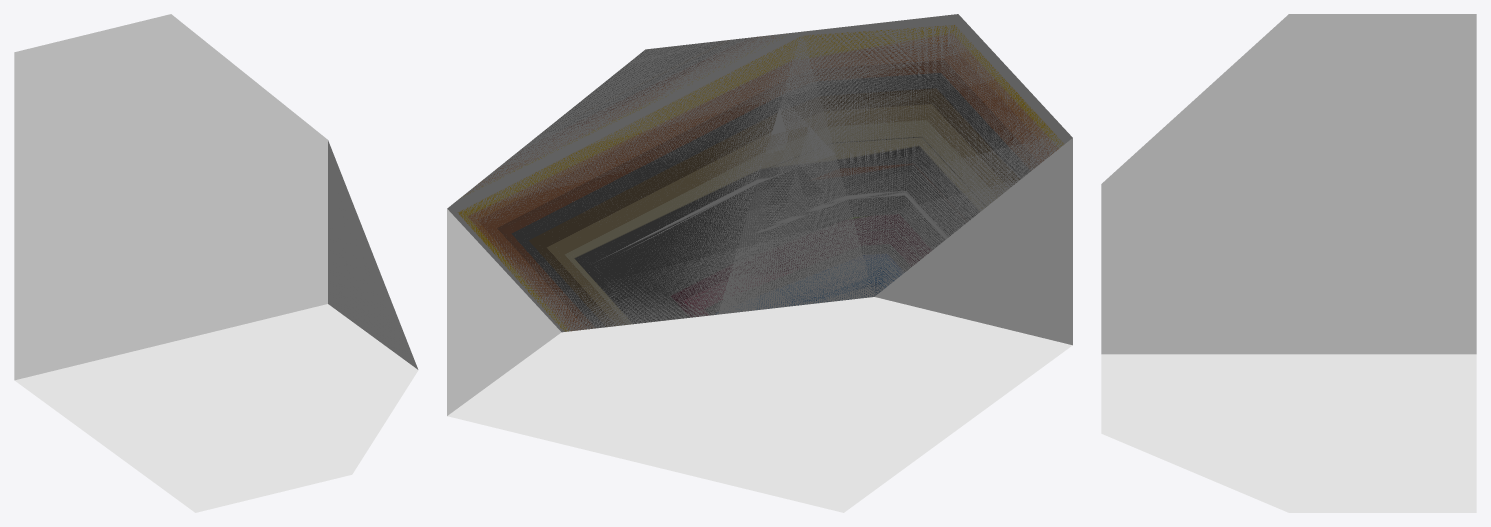
The model's file is r5c7_border_white.gltf.
3 views of the same model, side by side, from view 1: azimuth 30°, elevation 25°; view 2: azimuth 150°, elevation 25°; view 3: azimuth 270°, elevation 25° (orthographic). The views are drawn at different scales.
Parts seen in each view (by area): view 1: r5c7_border_white; view 2: r5c7_border_white; view 3: r5c7_border_white.
Boxes of the visible parts, x1=… form: r5c7_border_white: x1=14, y1=14, x2=418, y2=512; r5c7_border_white: x1=447, y1=14, x2=1072, y2=512; r5c7_border_white: x1=1101, y1=14, x2=1476, y2=512.
Bounding box in the file's own units: 2.1 × 2.1 × 2.1.
Materials: 1 (1 with a texture image).
